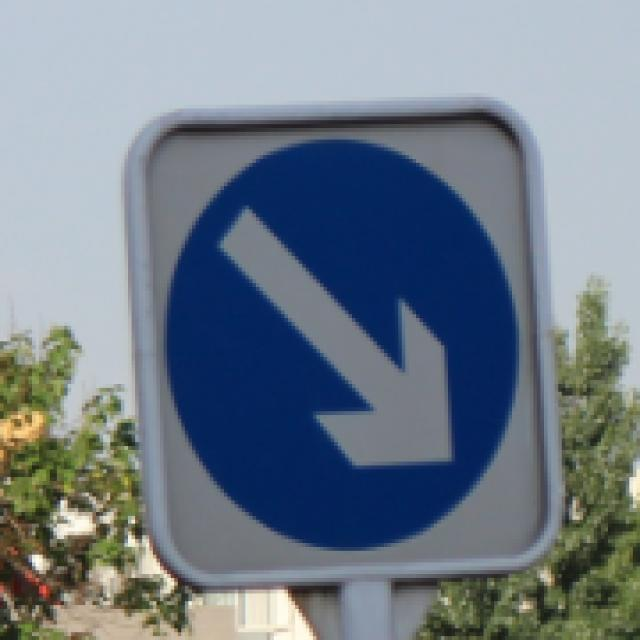Right: (150, 139, 540, 568)
